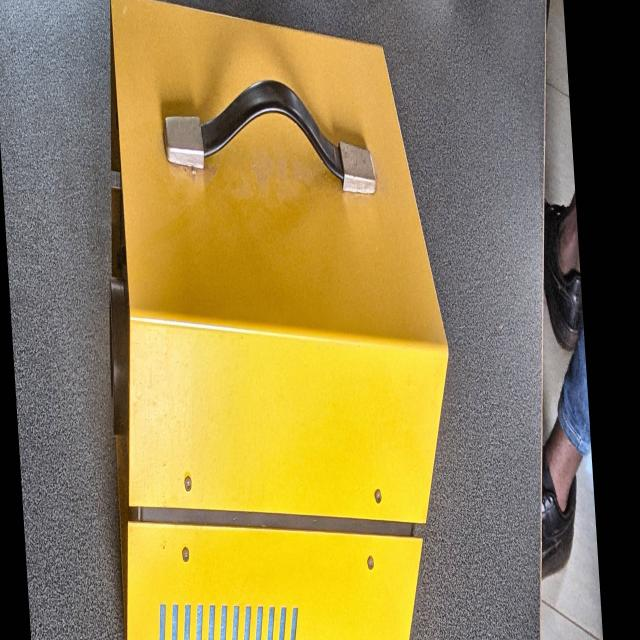Vacuum Pump: (74, 0, 473, 640)
